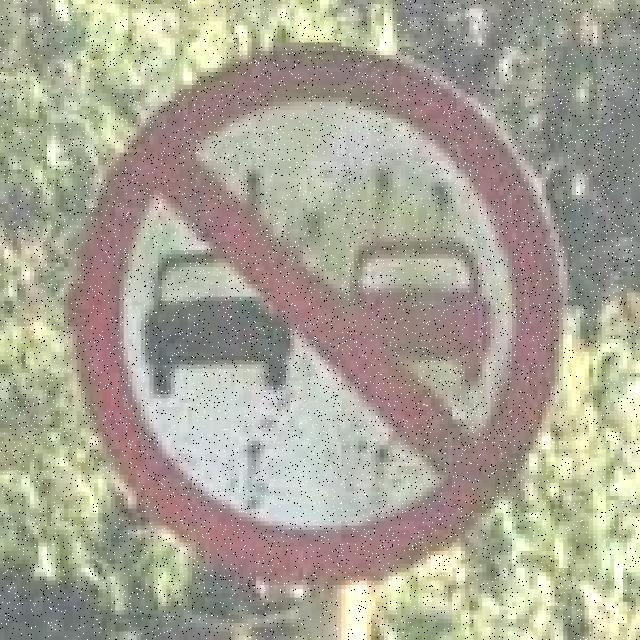Don-t-Overtracking: (57, 33, 553, 616)
